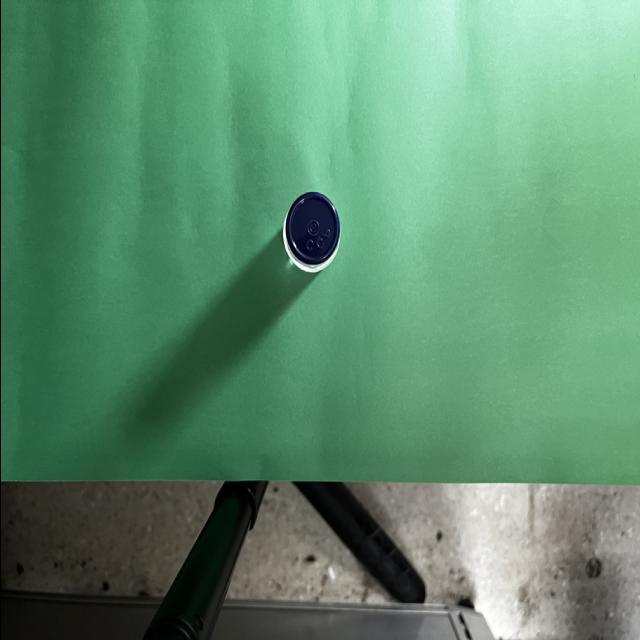Vials: (281, 191, 340, 273)
